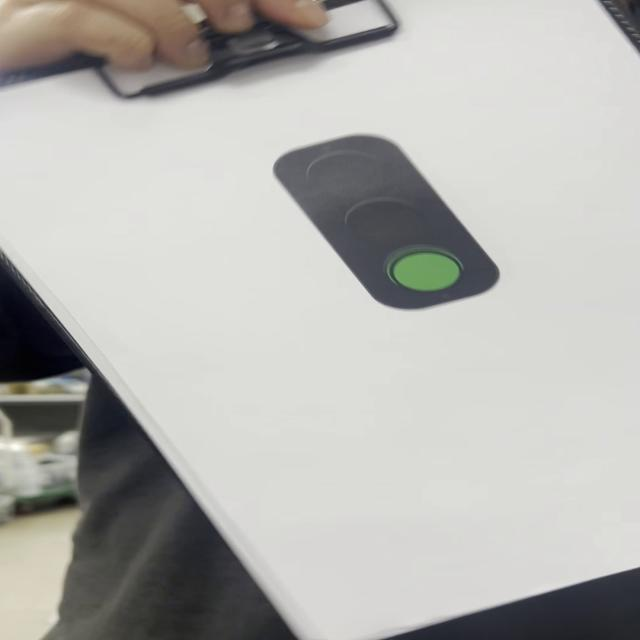green: (265, 131, 501, 313)
